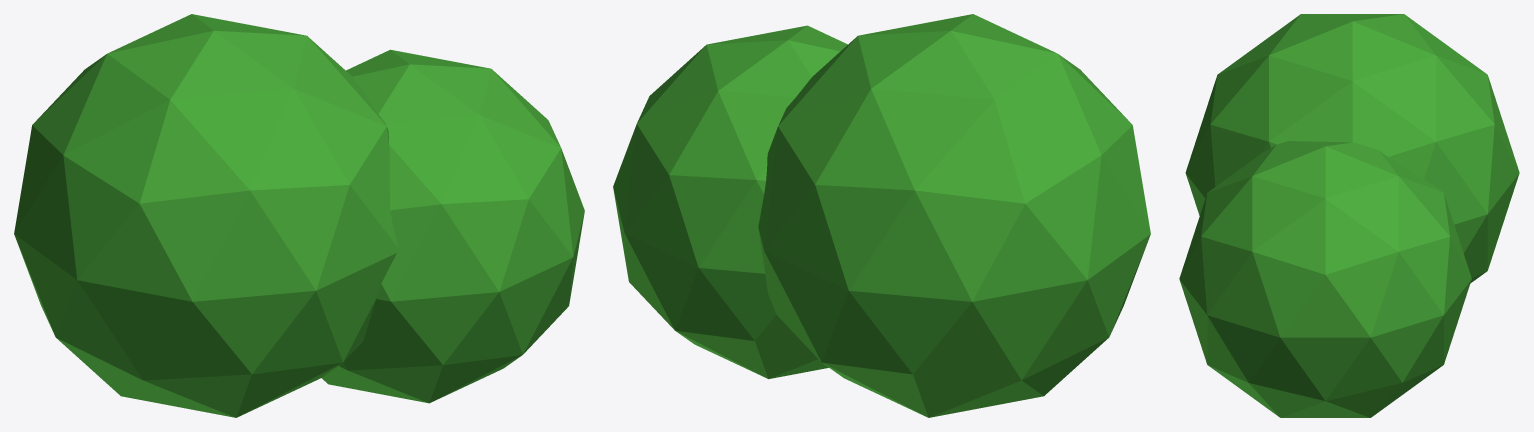
The model's file is Bush2.fbx.
3 renders of one model, left to right at view 1: azimuth 30°, elevation 25°; view 2: azimuth 150°, elevation 25°; view 3: azimuth 270°, elevation 25°, orthographic. The views are drawn at different scales.
Parts seen in each view (by area): view 1: Bush2; view 2: Bush2; view 3: Bush2.
Part boxes in pixels (x1,y1,x2,y2): Bush2: (14,14,584,417); Bush2: (613,14,1150,417); Bush2: (1179,14,1519,417).
Bounding box in the file's own units: 561 × 422 × 408.
